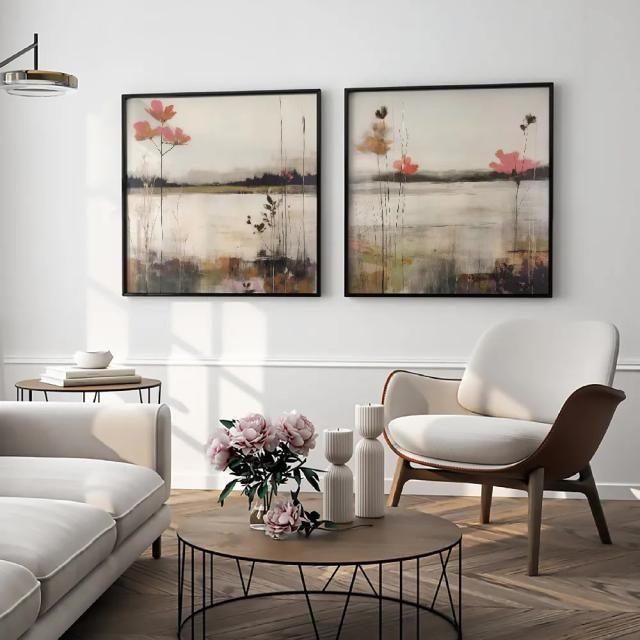painting: (347, 83, 553, 296), (122, 89, 322, 296)
